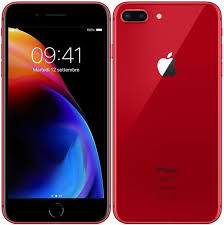iphone: (113, 1, 224, 225), (1, 1, 110, 225)
iphone8: (111, 1, 222, 225), (1, 1, 110, 225)
